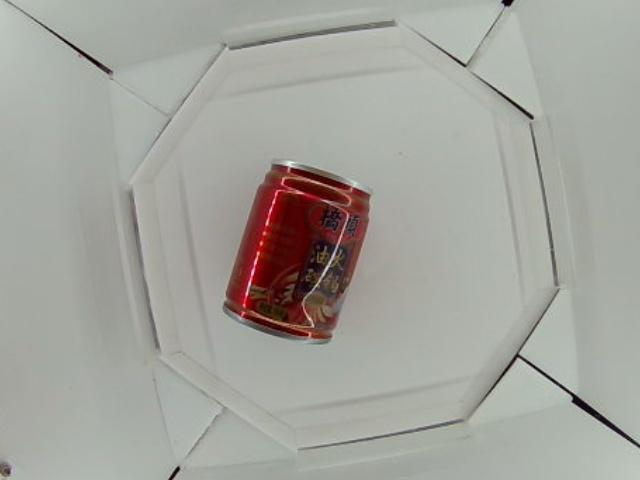Bottle: (218, 158, 376, 346)
